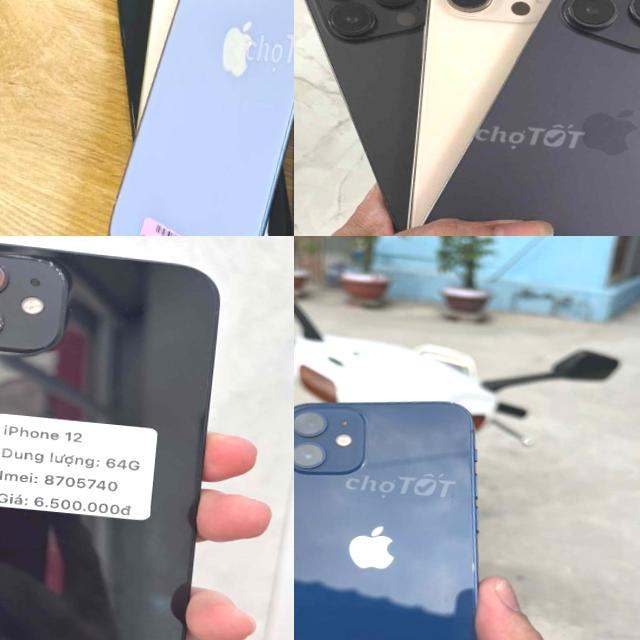gen_12_13: (0, 236, 233, 640), (294, 380, 549, 640)
gen_14: (419, 0, 640, 236), (95, 0, 294, 236)
scratch: (0, 243, 87, 369)
